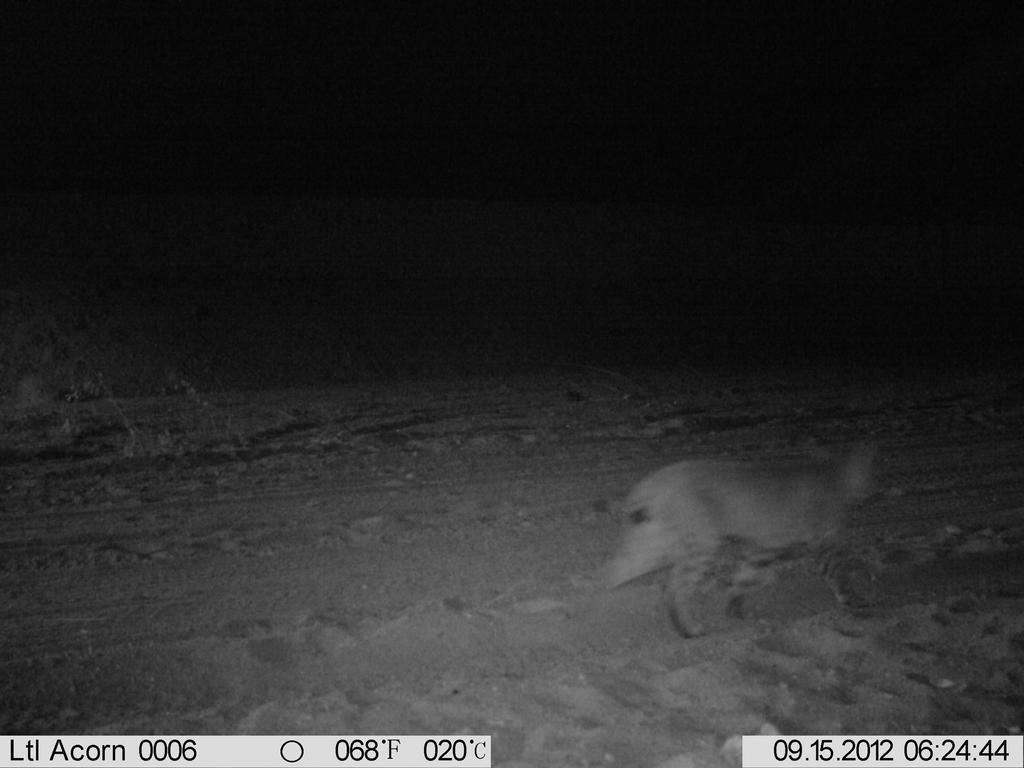bobcat: (573, 427, 890, 658)
